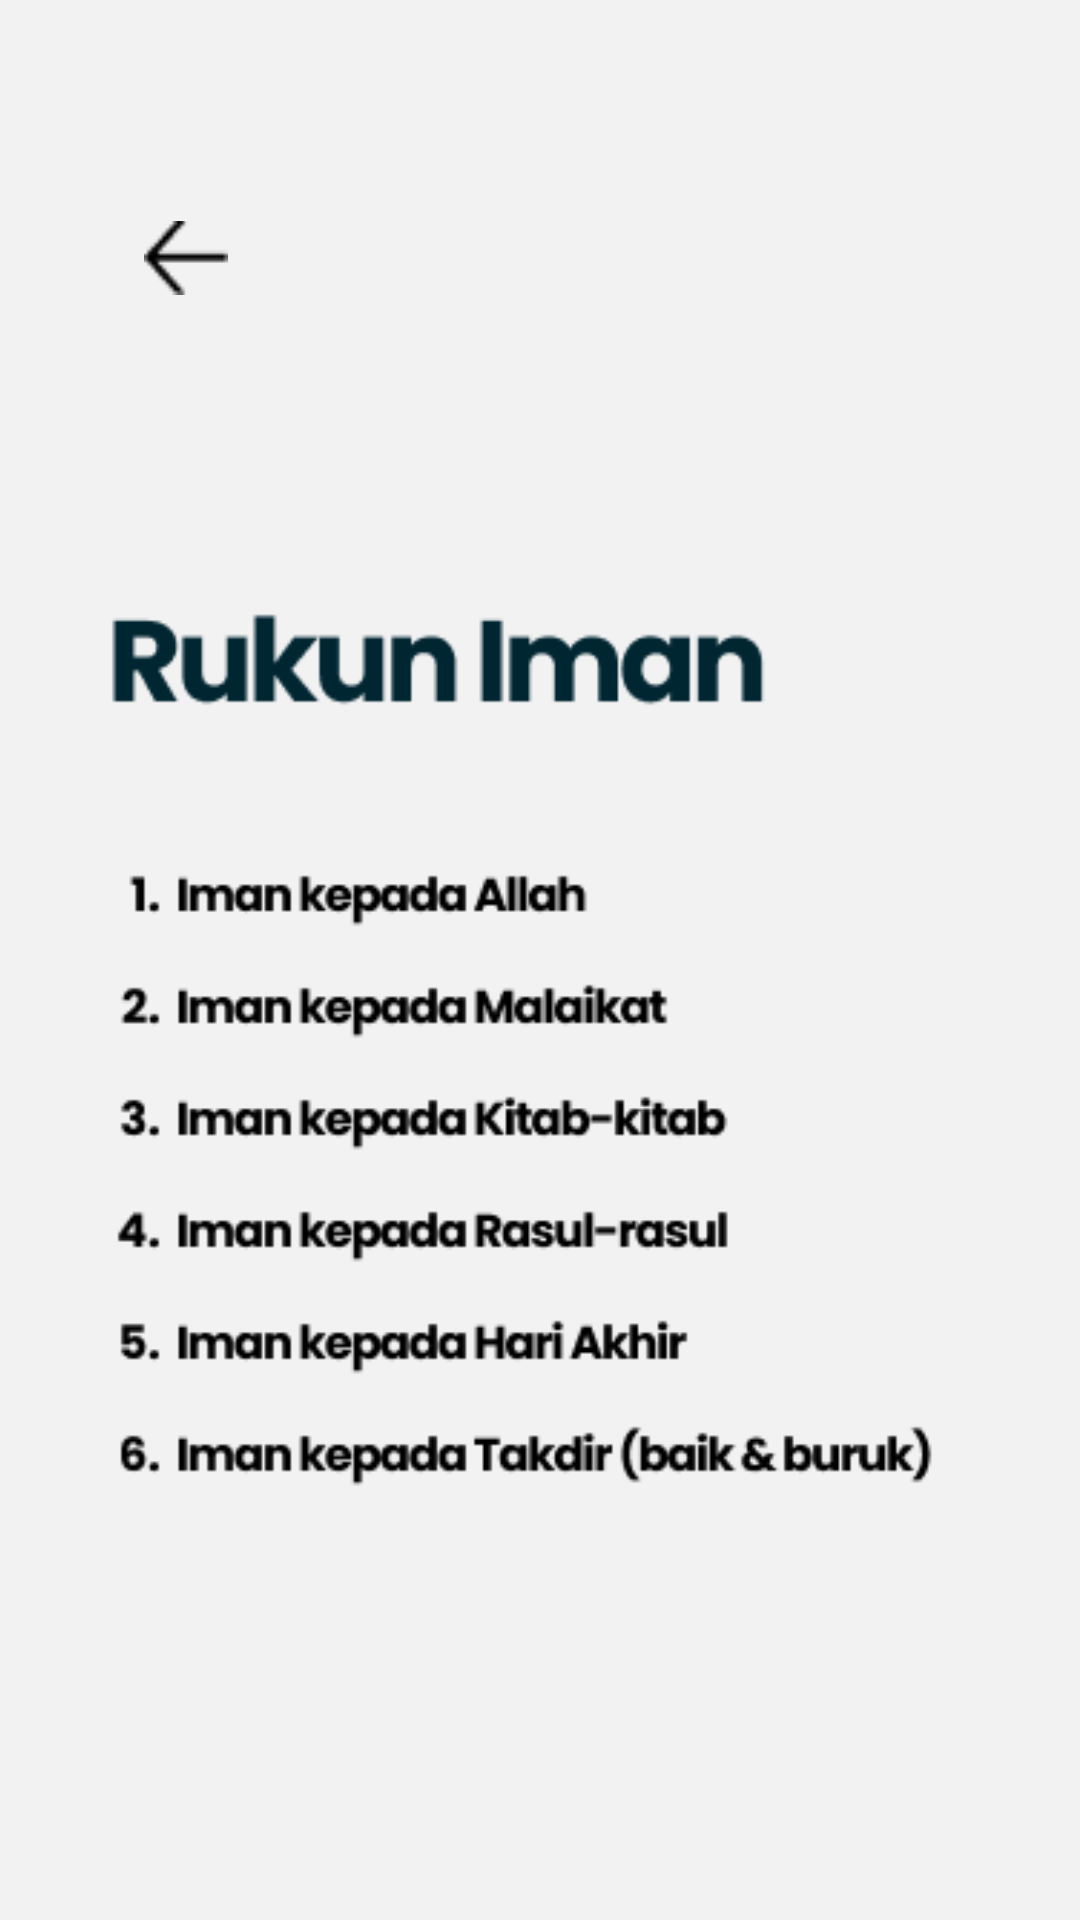

Screen size 1080x1920. Icon name, then its box in pixels as [left=x1, top=y1, right=x2, bottom=y2]:
back: [left=144, top=221, right=228, bottom=295]
